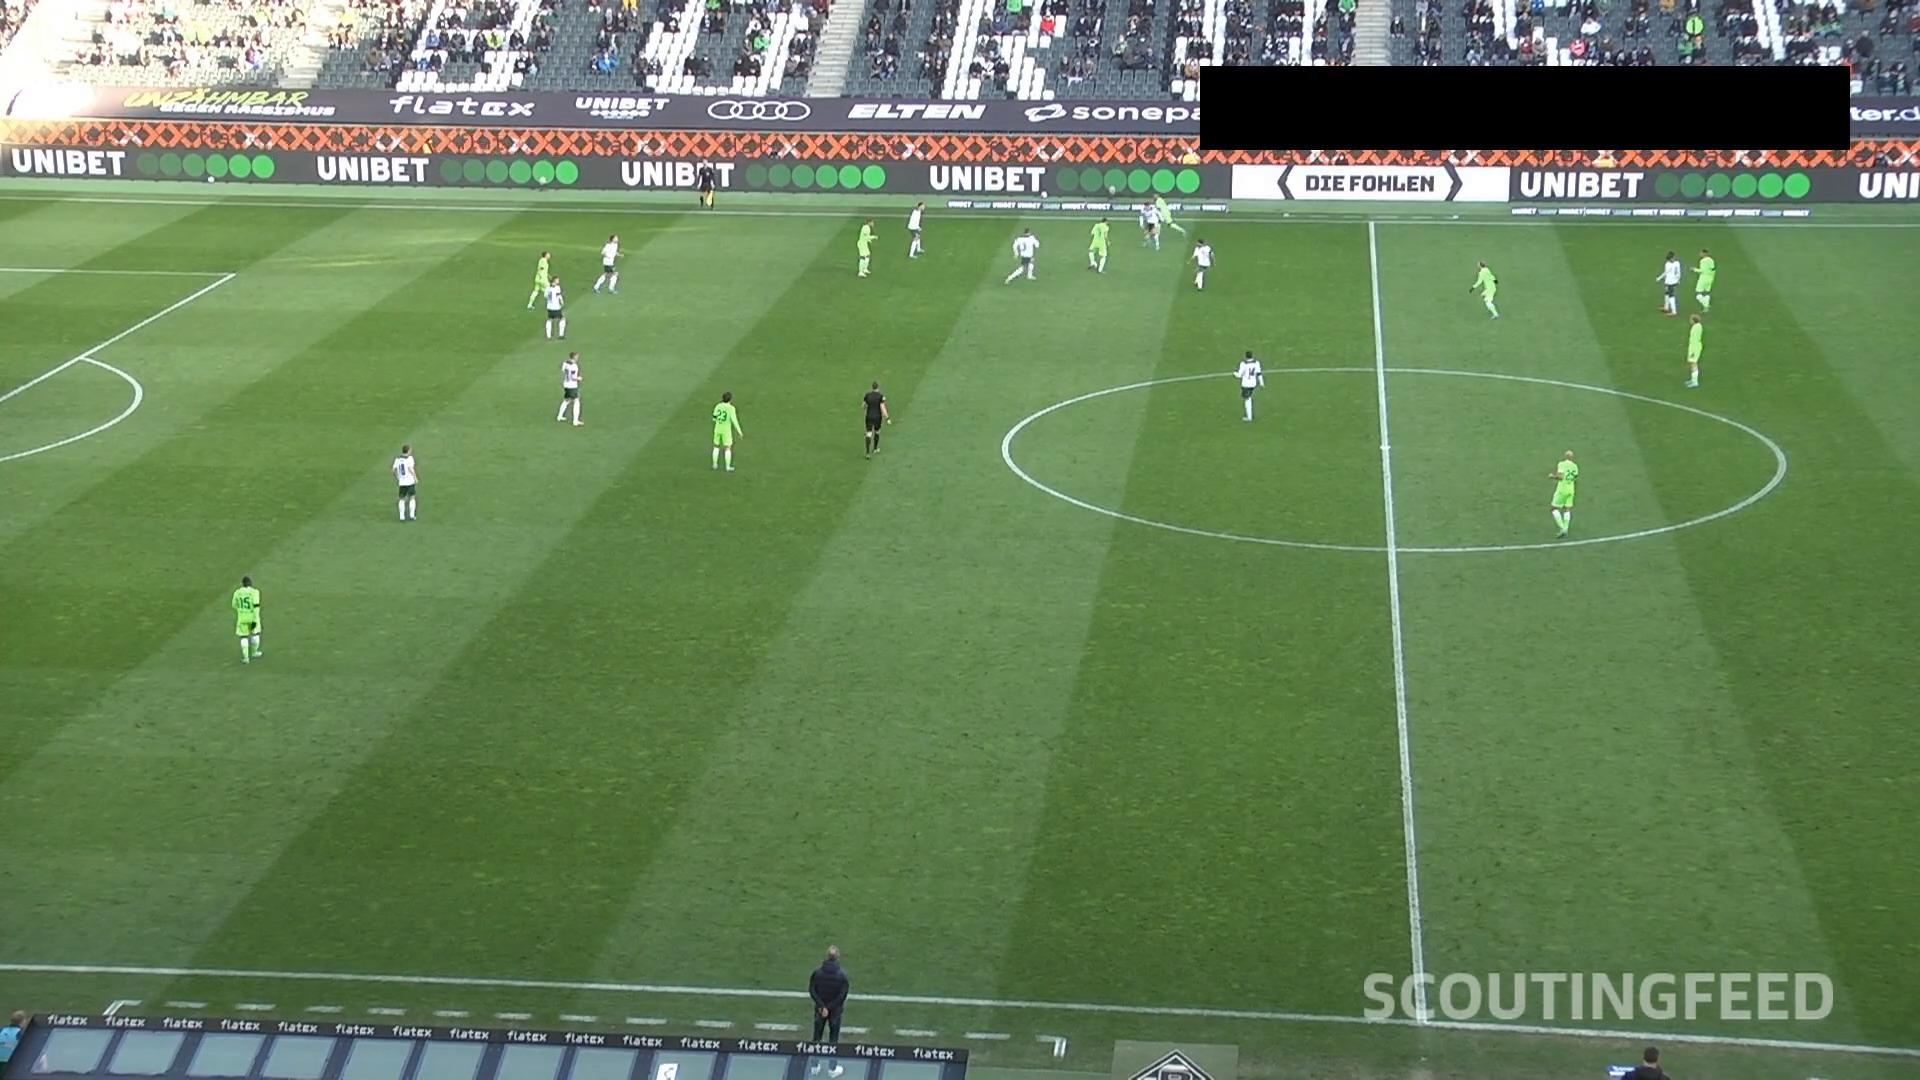coach: (808, 944, 849, 1044)
player: (1546, 448, 1578, 537), (230, 574, 262, 663), (709, 390, 742, 471), (1233, 349, 1264, 421), (390, 444, 418, 521), (556, 350, 584, 426), (1003, 227, 1039, 284), (592, 233, 623, 293), (1468, 259, 1498, 319), (1690, 247, 1716, 312), (541, 275, 567, 339), (1655, 250, 1681, 314), (525, 249, 552, 310), (1684, 312, 1703, 387), (1153, 194, 1186, 236), (1189, 237, 1214, 290), (1087, 216, 1110, 273), (855, 218, 877, 277), (1138, 201, 1162, 250), (906, 200, 926, 257)
referee: (860, 380, 890, 457), (694, 159, 716, 208)
